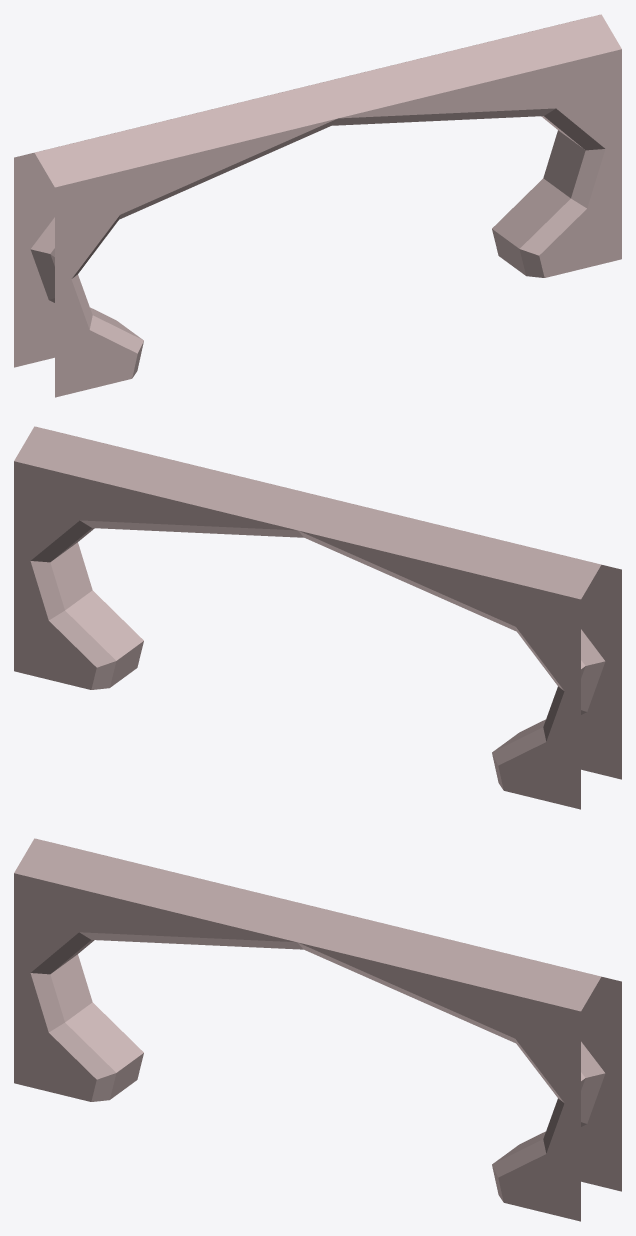
The model's file is BRail 1.fbx.
3 renders of one model, top to bottom at view 1: azimuth 30°, elevation 25°; view 2: azimuth 150°, elevation 25°; view 3: azimuth 330°, elevation 25°, orthographic.
Parts seen in each view (by area): view 1: BRail; view 2: BRail; view 3: BRail.
Boxes of the visible parts, x1,y1,x2,y2 form: BRail: (14, 14, 621, 397); BRail: (14, 426, 621, 809); BRail: (14, 838, 621, 1221).
Bounding box in the file's own units: 400 × 155 × 50.
